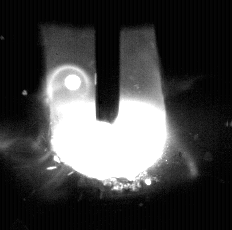arame: (97, 0, 120, 124)
poca: (51, 0, 170, 230)
